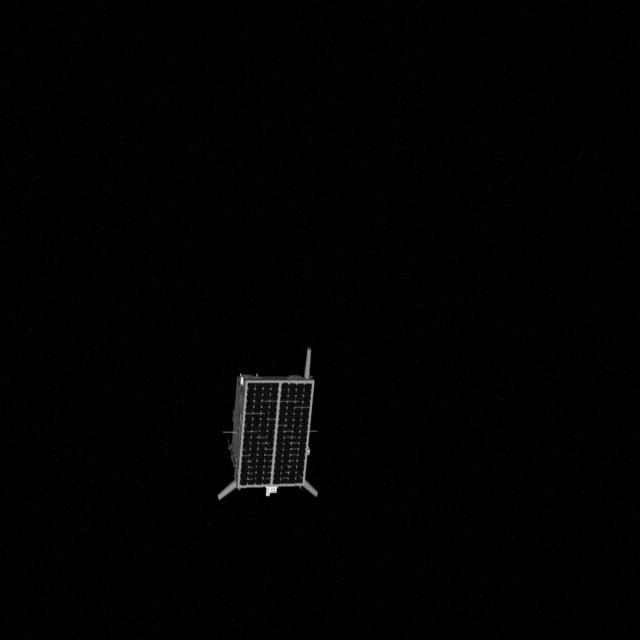medium_debris: (208, 328, 324, 510)
